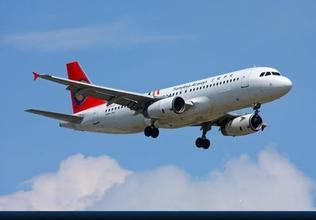airplane: (22, 59, 299, 142)
